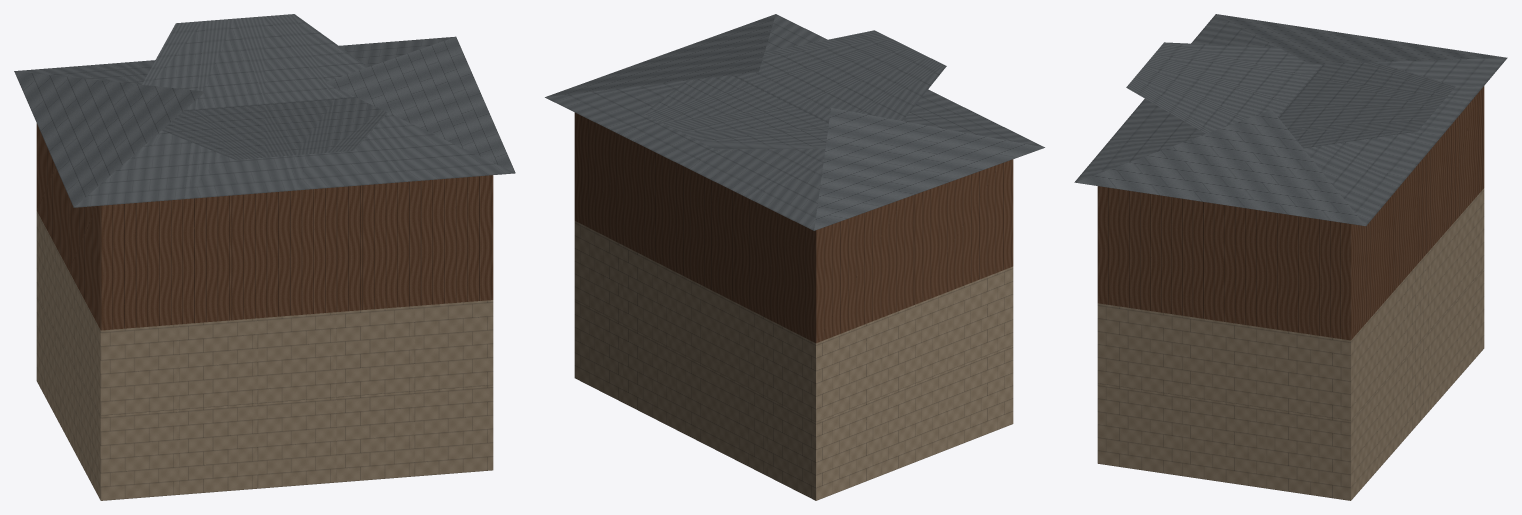
The model's file is bld_c8_7_504.gltf.
The picture shows the model from 3 angles, left to right: view 1: azimuth 30°, elevation 25°; view 2: azimuth 150°, elevation 25°; view 3: azimuth 270°, elevation 25°; orthographic projection. The views are drawn at different scales.
Visible parts, largest first — view 1: bld_c8_7_504; view 2: bld_c8_7_504; view 3: bld_c8_7_504.
Boxes of the visible parts, bbox=[...] form: bld_c8_7_504: bbox=[14, 14, 515, 500]; bld_c8_7_504: bbox=[545, 14, 1044, 500]; bld_c8_7_504: bbox=[1074, 14, 1507, 500].
Size of the model in its own units: 13.7 by 9.6 by 11.82.
3 materials, 3 textured.
